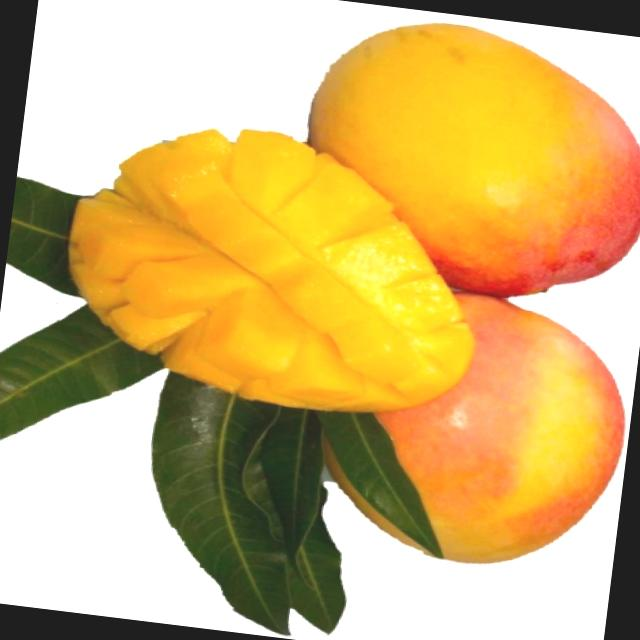mango: (283, 3, 640, 316), (337, 274, 640, 581)
